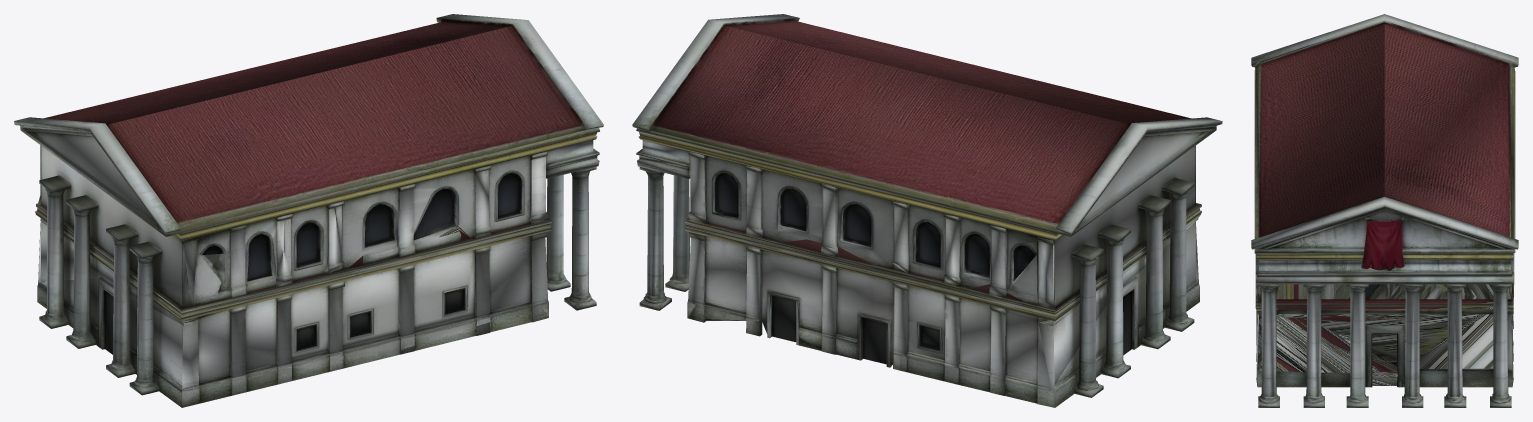
The model's file is palace.glb.
3 views of the same model, side by side, from view 1: azimuth 30°, elevation 25°; view 2: azimuth 150°, elevation 25°; view 3: azimuth 270°, elevation 25° (orthographic). The views are drawn at different scales.
Parts seen in each view (by area): view 1: model; view 2: model; view 3: model.
Boxes of the visible parts, x1,y1,x2,y2 form: model: (14, 14, 603, 407); model: (632, 14, 1222, 407); model: (1251, 14, 1518, 407).
Size of the model in its own units: 1.97 by 1 by 1.18.
1 material, 1 textured.
